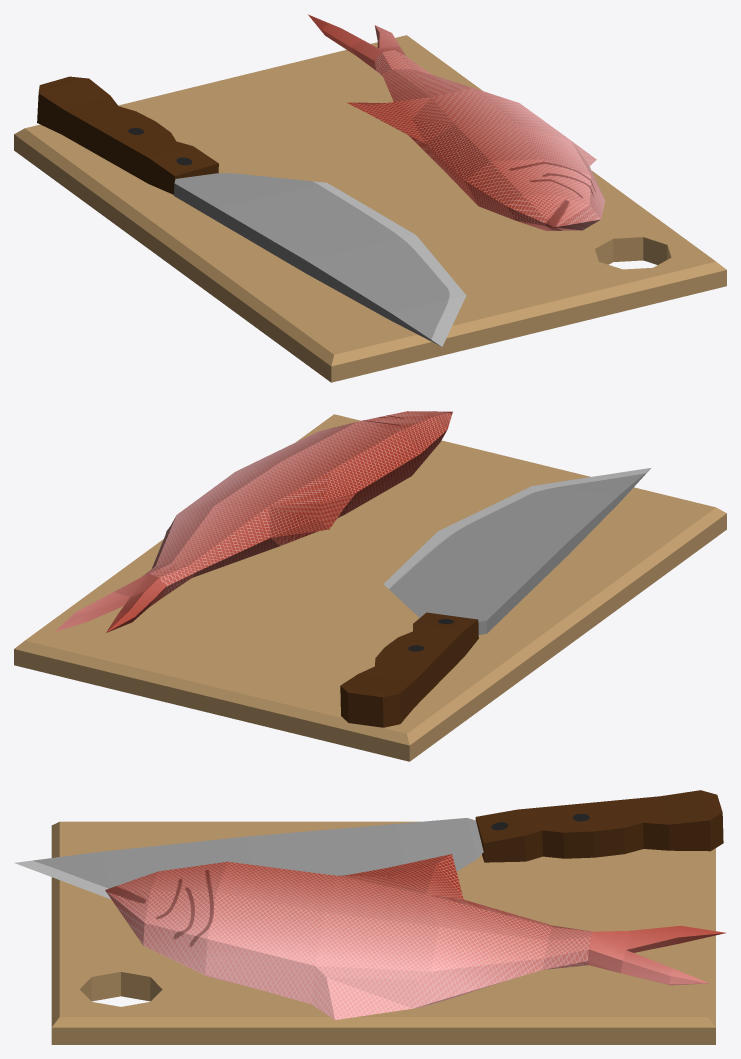
Rendered from red_herring.fbx.
3 renders of one model, top to bottom at view 1: azimuth 30°, elevation 25°; view 2: azimuth 150°, elevation 25°; view 3: azimuth 270°, elevation 25°, orthographic. The views are drawn at different scales.
Parts seen in each view (by area): view 1: red_herring; view 2: red_herring; view 3: red_herring.
Boxes of the visible parts, box(x1,y1,x2,y2) form: red_herring: box(14, 14, 726, 382); red_herring: box(14, 411, 726, 761); red_herring: box(15, 790, 725, 1044).
Bounding box in the file's own units: 6.64 × 1.59 × 9.76.
Materials: 1 (1 with a texture image).
